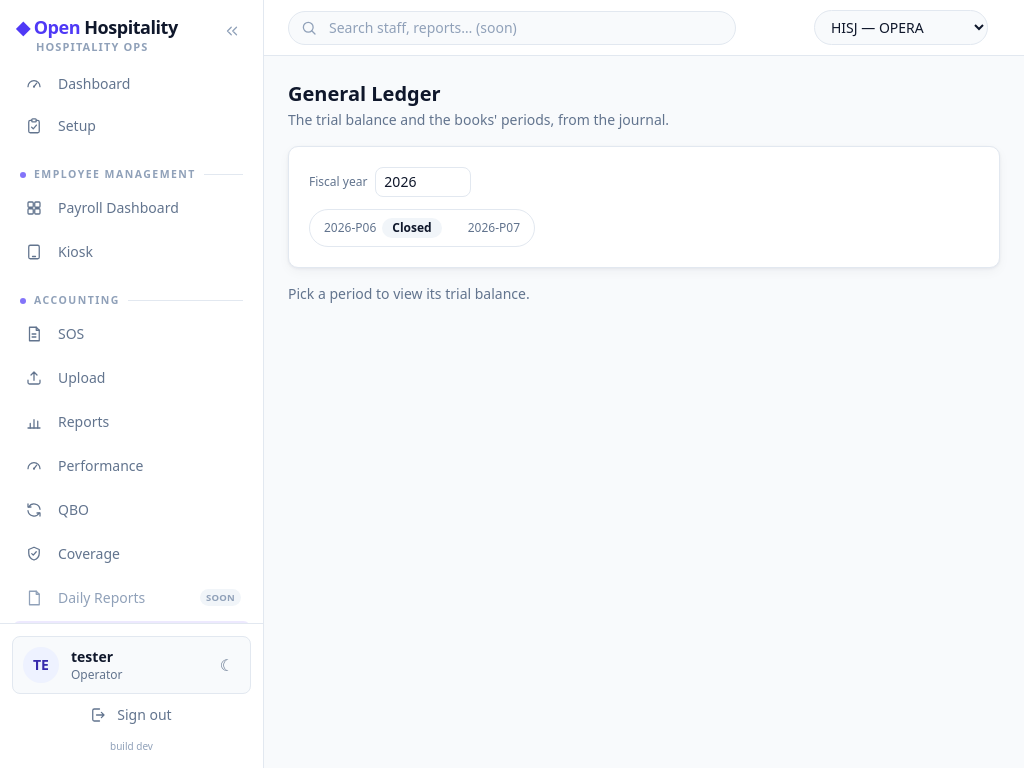
Test: GlPage › fetches and renders the trial balance when a chip is clicked
What coordinates should you click on to do the following:
click the button "2026-P07"
I would click on:
 (494, 228)
Its box is left=456, top=212, right=532, bottom=244.
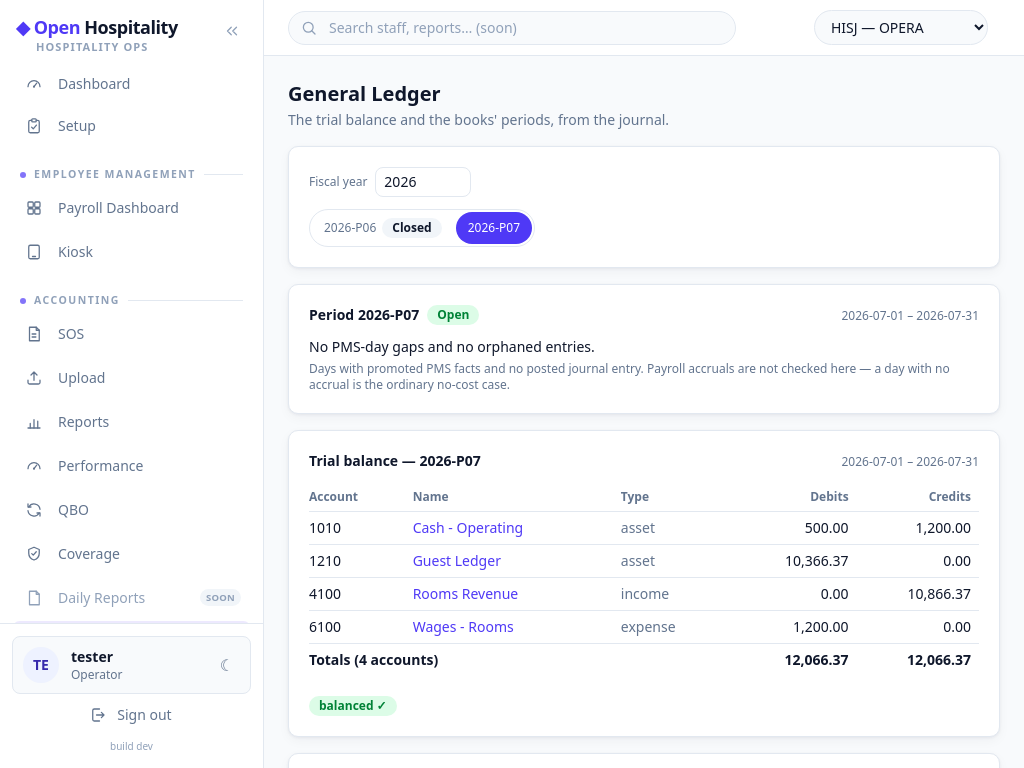
Result: the button "Rooms Revenue" is shown at left=413, top=584, right=518, bottom=604
Result: the text "1010" is shown at left=309, top=512, right=413, bottom=544
Result: the button "Cash - Operating" is shown at left=413, top=518, right=523, bottom=538
